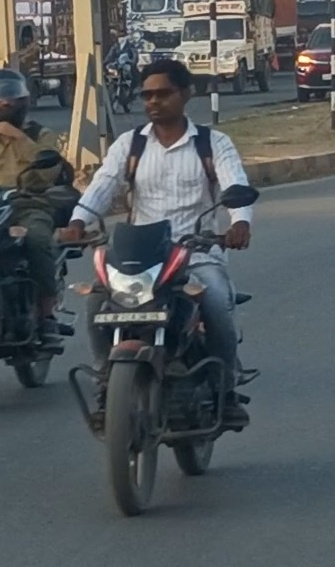BikeWithRider: (47, 53, 265, 522), (0, 61, 77, 394), (100, 24, 138, 119)
Helmet: (0, 62, 37, 127)
NoHelmet: (133, 56, 199, 129)
